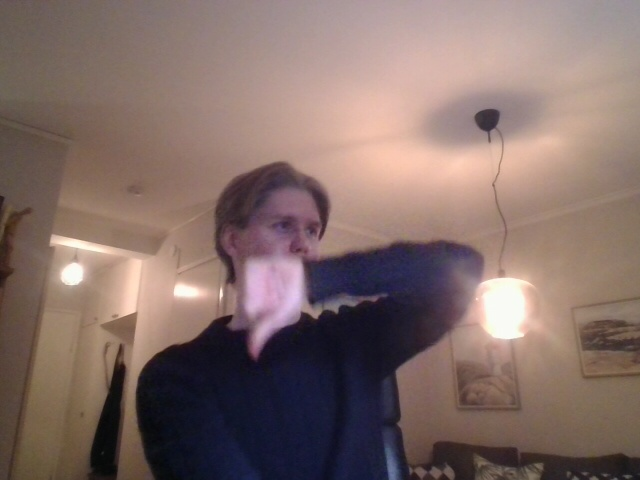ThumbsDown: (238, 254, 307, 363)
